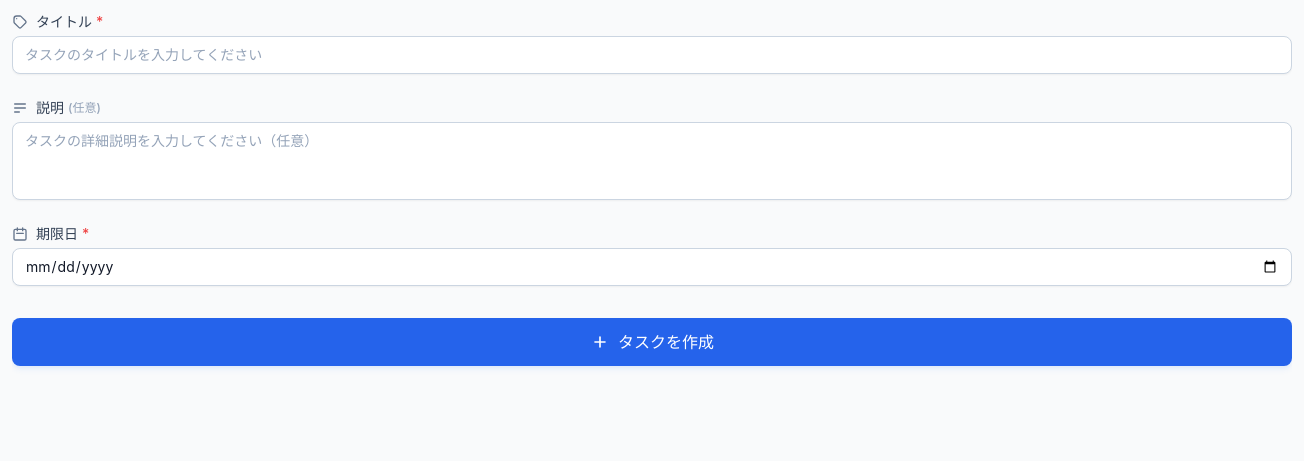
Test: TaskCreateForm › エラーハンドリング › API エラー時にエラーメッセージを表示する
 フォームに入力
Type "新しいタスク" into the field labelled "タイトル *" at [652, 55], box [12,36,1292,74]
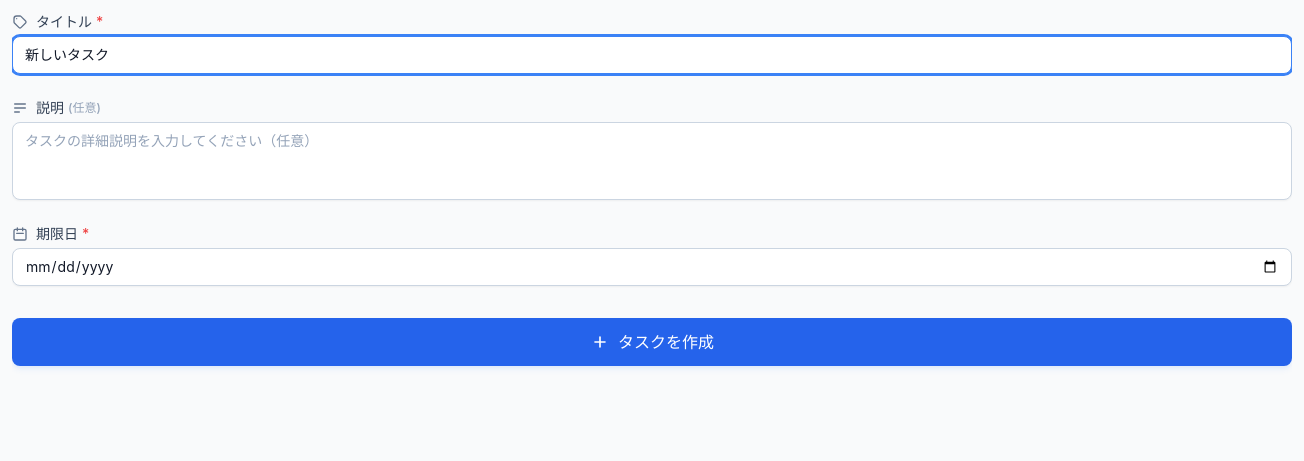
Type "2024-12-31" into the date field labelled "期限日 *" at [652, 267], box [12,248,1292,286]
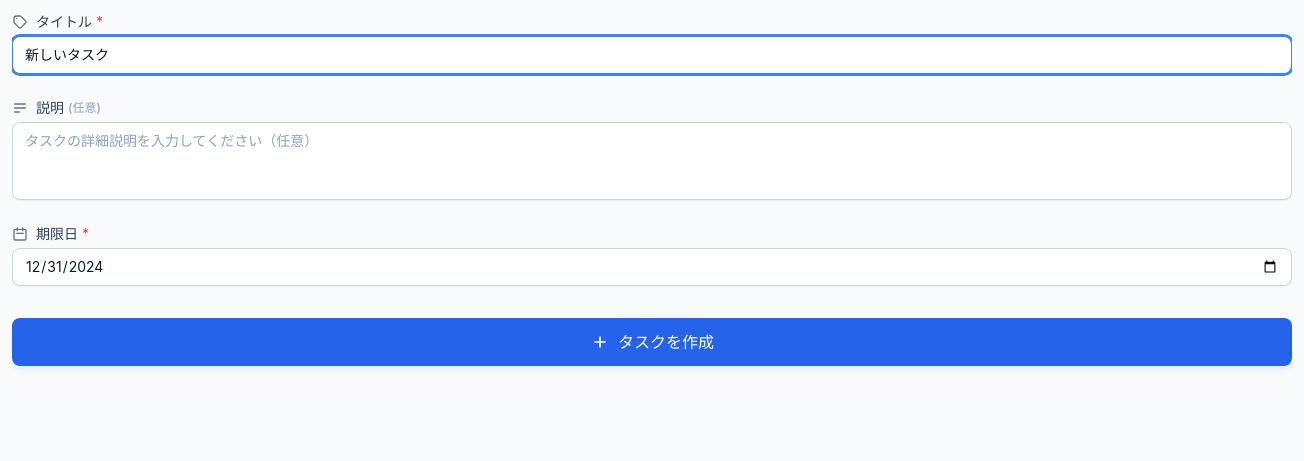
Click the button "タスクを作成" at [652, 342], box [12,318,1292,366]
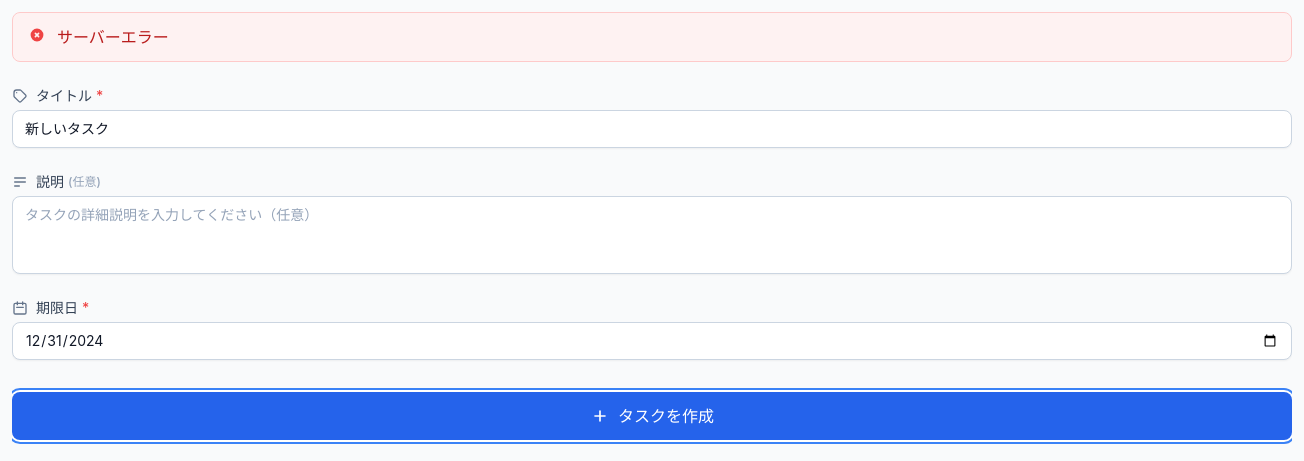
Now the text "サーバーエラー" is shown, box [12,12,1292,62]
